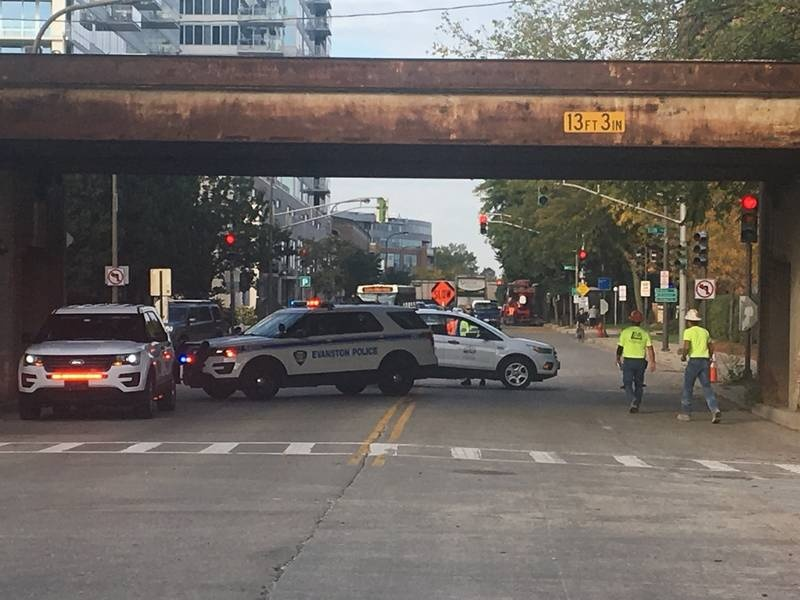red: (629, 311, 643, 326)
white: (686, 308, 699, 327)
